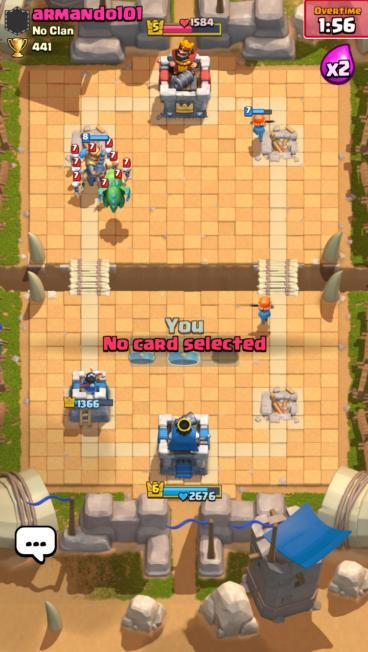ally_baby_dragon: (94, 179, 132, 215)
ally_prince: (78, 131, 117, 190)
ally_valkyrie: (245, 104, 275, 142), (253, 293, 276, 325)
enemy_skeleton: (65, 143, 84, 170), (67, 170, 86, 197), (102, 138, 118, 166), (110, 168, 128, 191), (68, 156, 84, 181), (104, 152, 121, 175), (119, 157, 134, 182)
